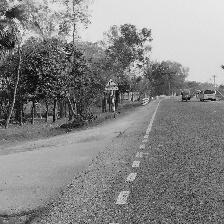Right-turn: (105, 76, 120, 92)
